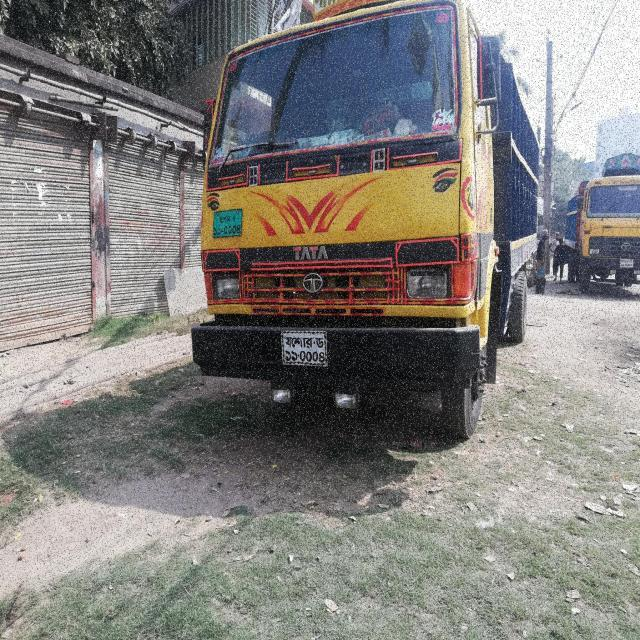cng: (565, 153, 639, 293)
numberplate: (279, 330, 328, 368), (209, 210, 246, 240)
